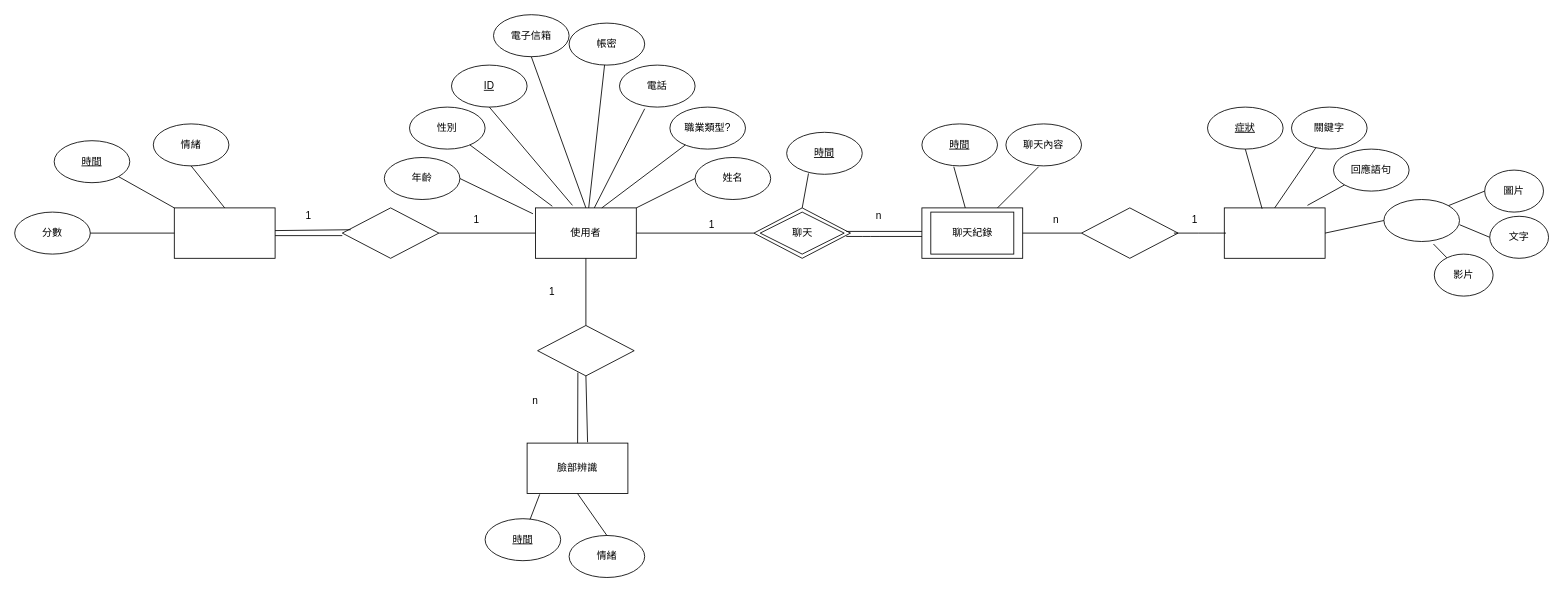
Some shapes in this 1563 by 592 pixel diagram are drawn without their labels. Here are the shapes that lost their labels. From the top down, the centre of each, then its label:
(224,232): 心情紀錄表
(390,232): 紀錄
(1129,232): 搜尋
(1274,232): 症狀對應建議表
(1421,220): 建議
(585,350): 攝影
